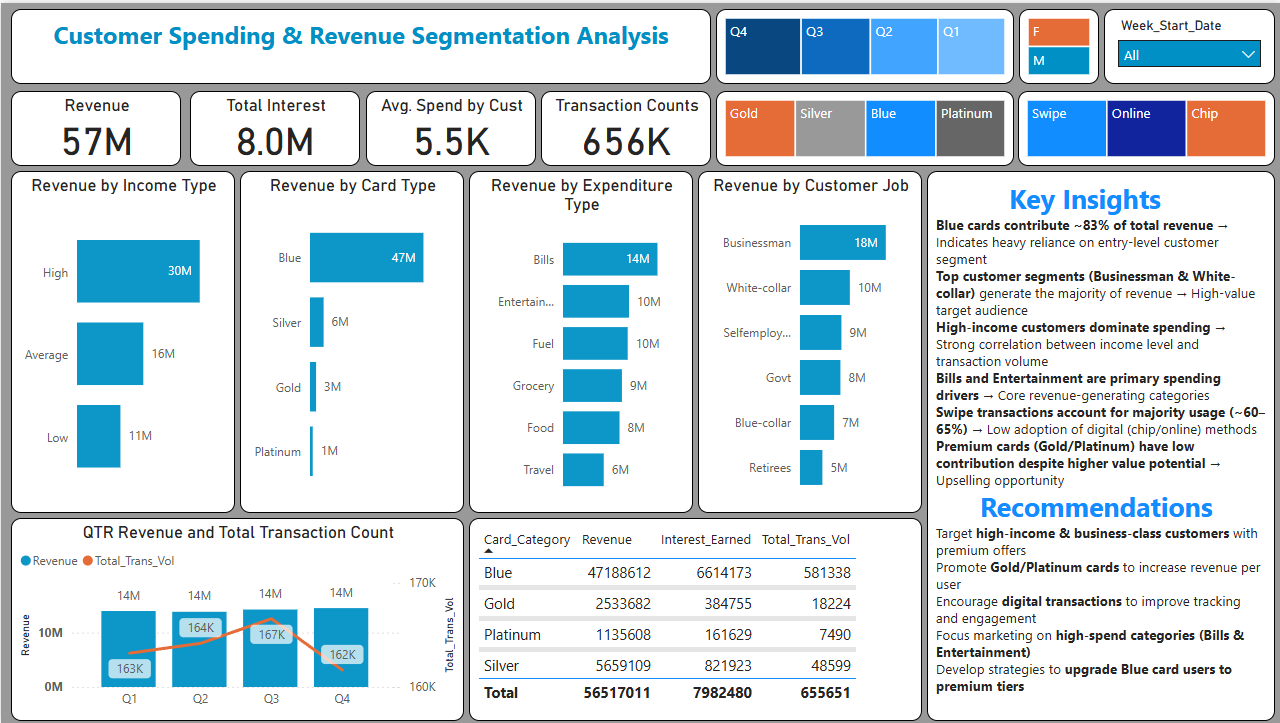

Layout of this report page (visuals, bound fields, positions):
{"tool":"powerbi","page":{"name":"CC Trans","canvas":[1280,720],"ordinal":0},"visuals":[{"type":"textbox","box":[10,6.4,700,75],"z":0},{"type":"lineStackedColumnComboChart","title":"QTR Revenue and Total Transaction Count","fields":{"Category":["credit_card.Qtr"],"Y":["Sum(credit_card.Revenue)"],"Y2":["Sum(credit_card.Total_Trans_Vol)"]},"box":[10,515,453,203],"z":1000},{"type":"barChart","title":"Revenue by Expenditure Type","fields":{"Y":["Sum(credit_card.Revenue)"],"Category":["credit_card.Exp Type"]},"box":[468,168,224,342],"z":2000},{"type":"barChart","title":"Revenue by Customer Job","fields":{"Y":["Sum(credit_card.Revenue)"],"Category":["customer.Customer_Job"]},"box":[697,168,224,342],"z":3000},{"type":"barChart","title":"Revenue by Card Type","fields":{"Y":["Sum(credit_card.Revenue)"],"Category":["credit_card.Card_Category"]},"box":[239,168,224,342],"z":4000},{"type":"tableEx","fields":{"Values":["credit_card.Card_Category","Sum(credit_card.Revenue)","Sum(credit_card.Interest_Earned)","Sum(credit_card.Total_Trans_Vol)"]},"box":[468,515,453,203],"z":5000},{"type":"card","title":"Revenue","fields":{"Values":["Sum(credit_card.Revenue)"]},"box":[10,88,170,75],"z":6000},{"type":"card","title":"Avg. Spend by Cust","fields":{"Values":["cc_add.Avg Spend per Customer"]},"box":[365,88,170,75],"z":7000},{"type":"card","title":"Total Interest","fields":{"Values":["Sum(credit_card.Interest_Earned)"]},"box":[189,88,170,75],"z":8000},{"type":"card","title":"Transaction Counts","fields":{"Values":["Sum(credit_card.Total_Trans_Vol)"]},"box":[540,88,170,75],"z":9000},{"type":"slicer","fields":{"Values":["credit_card.Week_Start_Date"]},"box":[1102.5,6.2,171.2,75],"z":10000},{"type":"treemap","fields":{"Group":["credit_card.Qtr"],"Values":["Avg(credit_card.Client_Num)"]},"box":[715,6,298,75],"z":11000},{"type":"treemap","fields":{"Values":["Avg(credit_card.Client_Num)"],"Group":["customer.Gender"]},"box":[1018,6,80,75],"z":12000},{"type":"treemap","fields":{"Values":["Avg(credit_card.Client_Num)"],"Group":["credit_card.Card_Category"]},"box":[715,88,298,75],"z":13000},{"type":"barChart","title":"Revenue by Income Type","fields":{"Y":["Sum(credit_card.Revenue)"],"Category":["customer.IncomeGroup"]},"box":[10,168,224,342],"z":15000},{"type":"textbox","box":[926,168,348,550],"z":15001},{"type":"treemap","fields":{"Values":["Avg(credit_card.Client_Num)"],"Group":["credit_card.Use Chip"]},"box":[1017,88,257,75],"z":15002}]}

Visuals, with their boxes in screenshot pixels (x1, y1, x2, y2), scaled from the page's 1280x720 canvas onto the 1280x723 screenshot:
textbox: (10, 6, 710, 82)
"QTR Revenue and Total Transaction Count" lineStackedColumnComboChart: (10, 517, 463, 721)
"Revenue by Expenditure Type" barChart: (468, 169, 692, 512)
"Revenue by Customer Job" barChart: (697, 169, 921, 512)
"Revenue by Card Type" barChart: (239, 169, 463, 512)
tableEx - credit_card.Card_Category x Sum(credit_card.Revenue): (468, 517, 921, 721)
"Revenue" card: (10, 88, 180, 164)
"Avg. Spend by Cust" card: (365, 88, 535, 164)
"Total Interest" card: (189, 88, 359, 164)
"Transaction Counts" card: (540, 88, 710, 164)
slicer - credit_card.Week_Start_Date: (1102, 6, 1274, 82)
treemap - credit_card.Qtr x Avg(credit_card.Client_Num): (715, 6, 1013, 81)
treemap - Avg(credit_card.Client_Num) x customer.Gender: (1018, 6, 1098, 81)
treemap - Avg(credit_card.Client_Num) x credit_card.Card_Category: (715, 88, 1013, 164)
"Revenue by Income Type" barChart: (10, 169, 234, 512)
textbox: (926, 169, 1274, 721)
treemap - Avg(credit_card.Client_Num) x credit_card.Use Chip: (1017, 88, 1274, 164)
